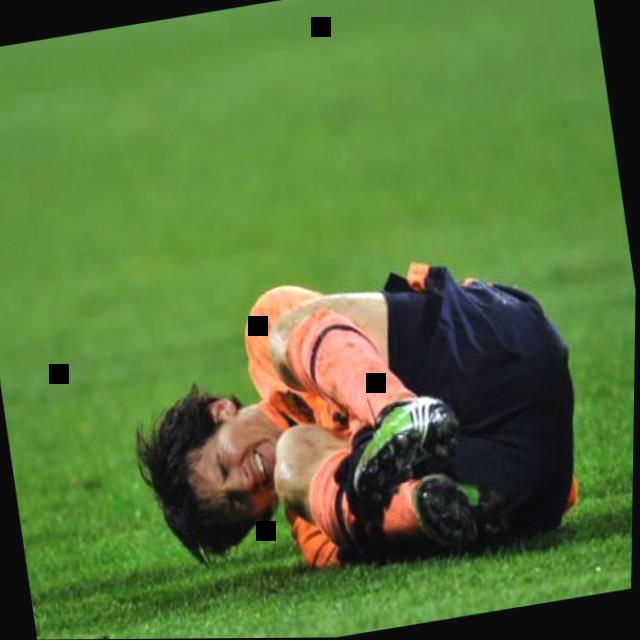Fall-Detected: (115, 214, 607, 607)
